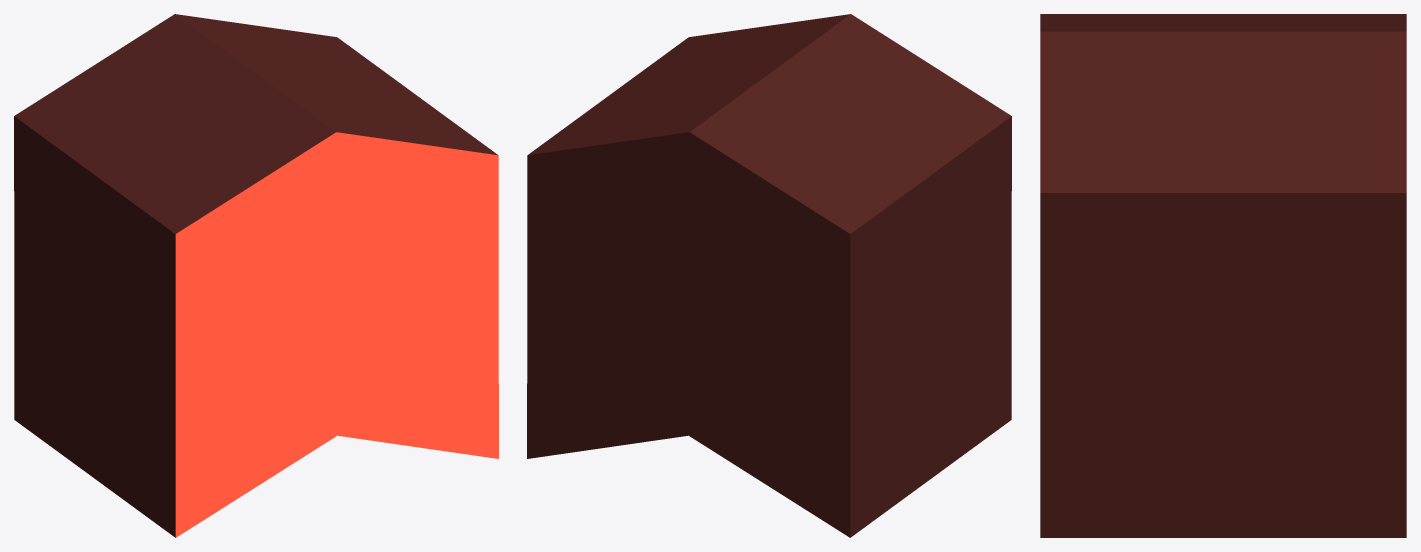
File: LS_icon4.glb
3 renders of one model, left to right at view 1: azimuth 30°, elevation 25°; view 2: azimuth 150°, elevation 25°; view 3: azimuth 270°, elevation 25°, orthographic. The views are drawn at different scales.
Visible parts, largest first — view 1: FaceA, Top, FaceD; view 2: FaceC, Top, FaceD; view 3: FaceB, Top.
Part boxes in pixels (left/top/right/bottom): FaceA: left=175, top=132, right=498, bottom=537; Top: left=14, top=14, right=497, bottom=233; FaceD: left=14, top=116, right=175, bottom=537; FaceC: left=527, top=132, right=850, bottom=537; Top: left=528, top=14, right=1011, bottom=233; FaceD: left=850, top=116, right=1011, bottom=537; FaceB: left=1040, top=193, right=1406, bottom=537; Top: left=1040, top=14, right=1406, bottom=192.
Size of the model in its own units: 2.17 by 2.36 by 1.88.
